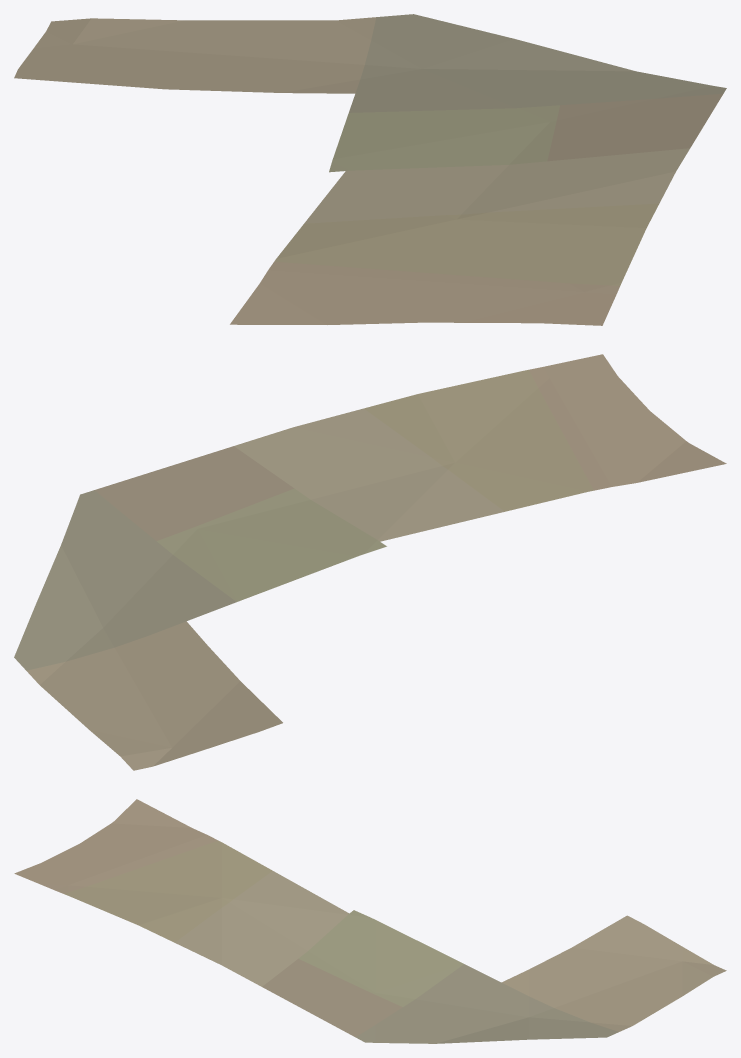
The model's file is farm_-24_-28_soil.glb.
3 renders of one model, top to bottom at view 1: azimuth 30°, elevation 25°; view 2: azimuth 150°, elevation 25°; view 3: azimuth 270°, elevation 25°, orthographic. The views are drawn at different scales.
Parts seen in each view (by area): view 1: geometry_0; view 2: geometry_0; view 3: geometry_0.
Part boxes in pixels (bbox=[...]): geometry_0: bbox=[14, 14, 726, 325]; geometry_0: bbox=[14, 354, 726, 770]; geometry_0: bbox=[14, 799, 726, 1043].
Size of the model in its own units: 248 by 48.61 by 371.
